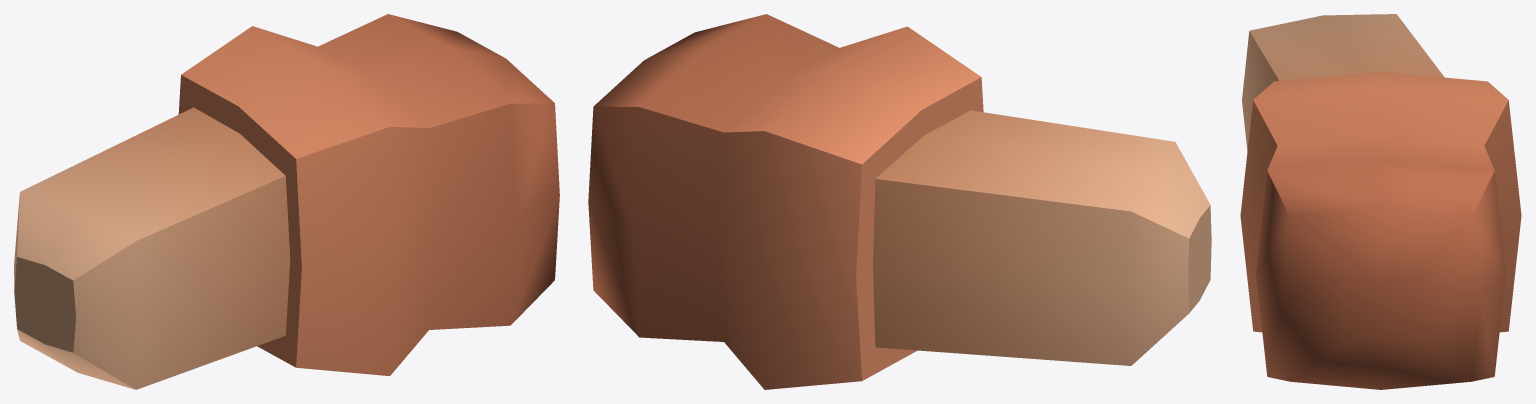
The model's file is arm-right.003_lev2.glb.
3 renders of one model, left to right at view 1: azimuth 30°, elevation 25°; view 2: azimuth 150°, elevation 25°; view 3: azimuth 270°, elevation 25°, orthographic. The views are drawn at different scales.
Parts seen in each view (by area): view 1: arm-right.003_lev2; view 2: arm-right.003_lev2; view 3: arm-right.003_lev2.
Part boxes in pixels (box(x1,y1,x2,y2)): arm-right.003_lev2: box(14, 14, 559, 389); arm-right.003_lev2: box(588, 14, 1211, 389); arm-right.003_lev2: box(1240, 14, 1521, 389).
Bounding box in the file's own units: 0.3307 × 0.1631 × 0.1631.
1 material, 1 textured.
